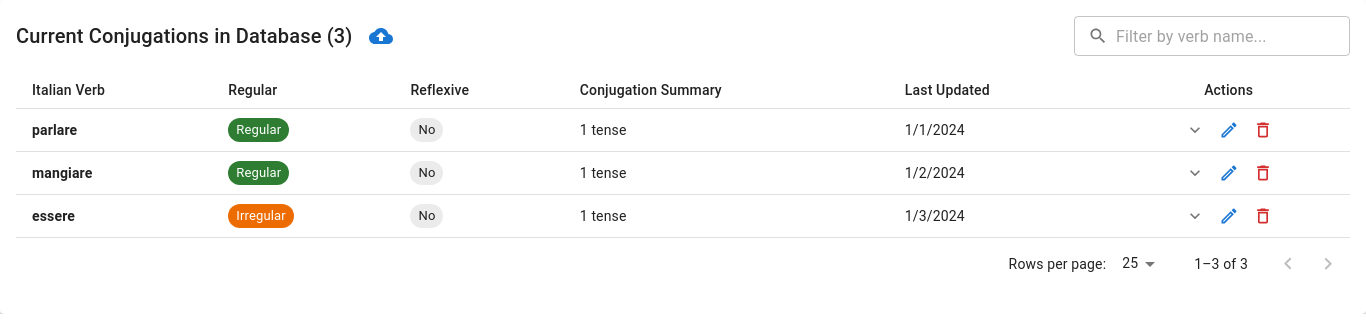
Test: ConjugationsList › Filtering › should clear filter when clear button is clicked
The width and height of the screenshot is (1366, 331).
Type "parlare" into the field with placeholder "Filter by verb name..." at (1233, 36), box 1116,16 -> 1350,56
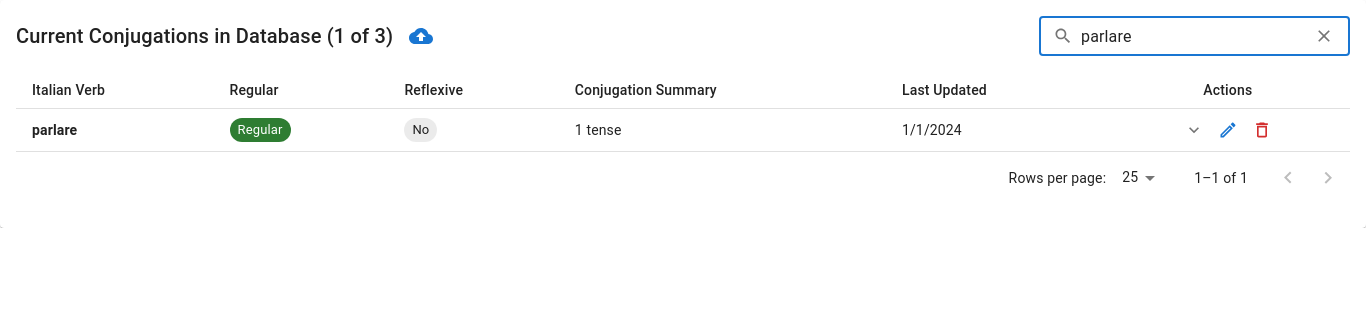
Click the button named "clear filter" at (1324, 36), box 1309,21 -> 1339,51
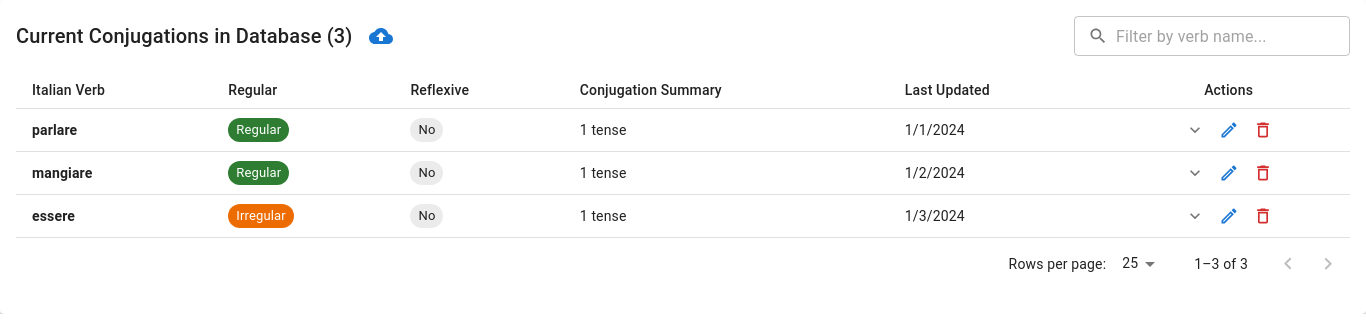
Expected: the field with placeholder "Filter by verb name..." is empty, 1116,16 -> 1350,56
Expected: the text "mangiare" is shown, 32,165 -> 92,181
Expected: the text "essere" is shown, 32,208 -> 75,224
